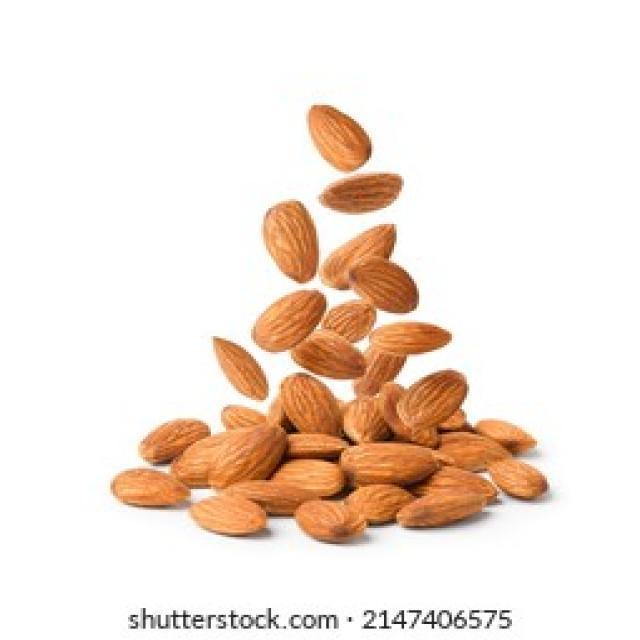almond: (208, 425, 292, 491), (319, 220, 398, 289), (252, 287, 326, 353), (261, 198, 319, 282), (307, 101, 374, 172), (339, 442, 443, 484), (402, 367, 470, 428), (288, 328, 366, 380), (346, 258, 419, 313), (281, 372, 342, 436), (211, 336, 269, 400), (413, 466, 503, 506), (394, 490, 486, 529), (317, 172, 405, 212), (379, 381, 436, 442), (292, 499, 369, 544), (139, 416, 211, 463), (433, 432, 515, 473), (186, 495, 270, 535), (110, 469, 191, 507), (354, 344, 405, 401), (368, 321, 452, 355), (319, 300, 379, 346), (347, 486, 415, 525), (277, 458, 341, 496), (489, 458, 548, 499), (479, 419, 538, 456), (345, 397, 387, 446), (277, 431, 350, 457)
